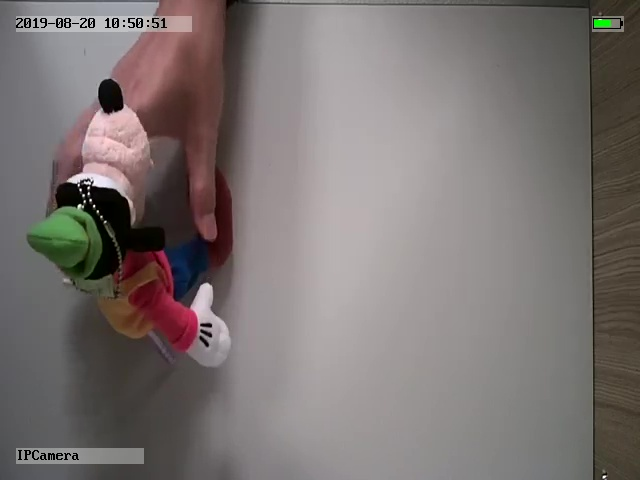goofy: (26, 77, 232, 368)
